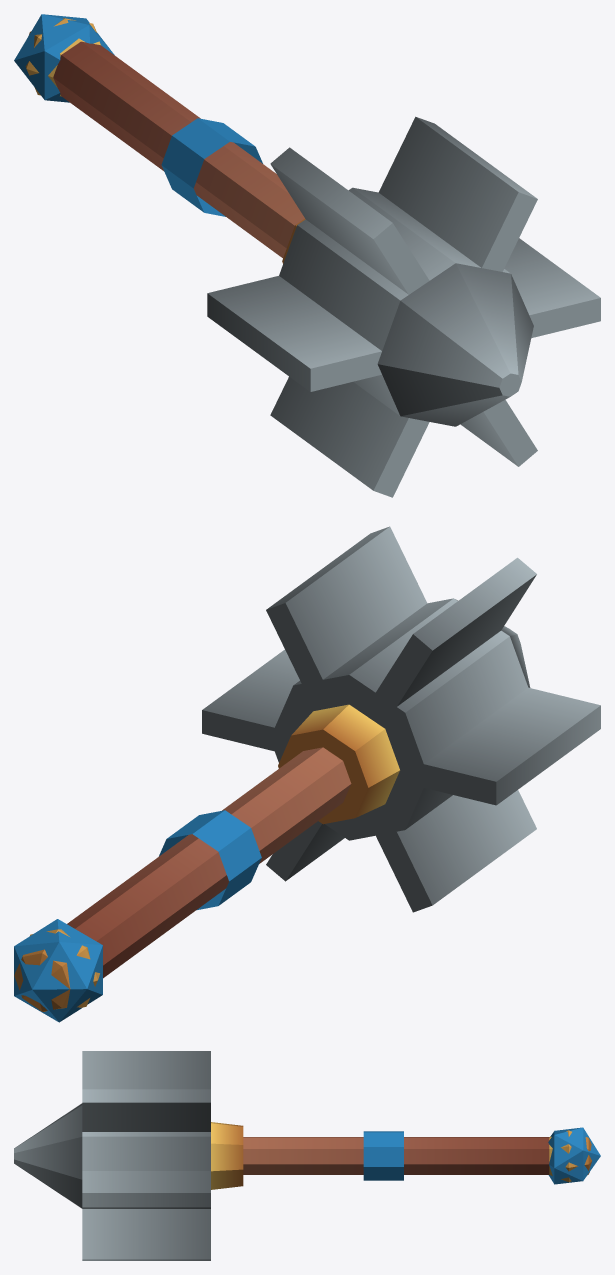
File: paladin_mace_t2.glb
The picture shows the model from 3 angles, top to bottom: view 1: azimuth 30°, elevation 25°; view 2: azimuth 150°, elevation 25°; view 3: azimuth 270°, elevation 25°; orthographic projection. The views are drawn at different scales.
Parts seen in each view (by area): view 1: paladin_mace_t2__handslot_r; view 2: paladin_mace_t2__handslot_r; view 3: paladin_mace_t2__handslot_r.
Part boxes in pixels (x1=…): paladin_mace_t2__handslot_r: x1=14, y1=14, x2=600, y2=497; paladin_mace_t2__handslot_r: x1=14, y1=526, x2=600, y2=1022; paladin_mace_t2__handslot_r: x1=14, y1=1051, x2=600, y2=1260.
Size of the model in its own units: 0.52 by 0.4703 by 1.46.
Materials: 2 (2 with a texture image).
